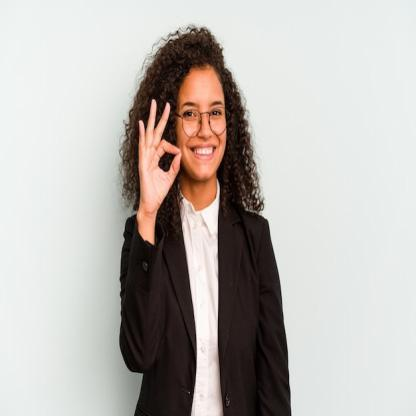ok: (136, 95, 183, 213)
